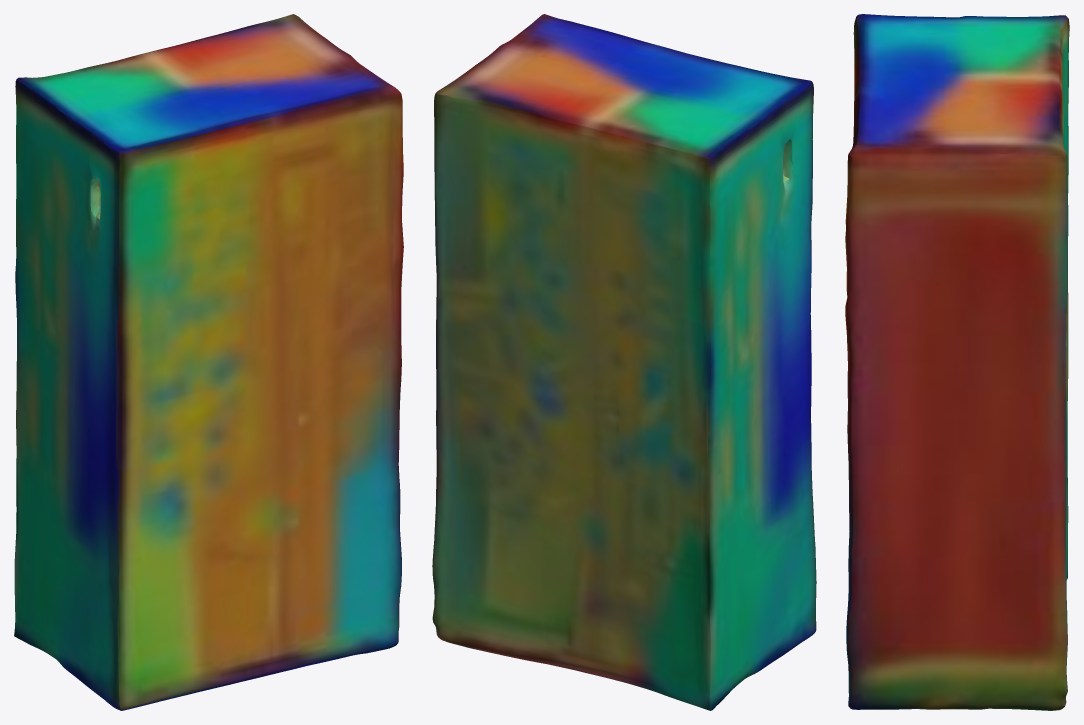
3 renders of one model, left to right at view 1: azimuth 30°, elevation 25°; view 2: azimuth 150°, elevation 25°; view 3: azimuth 270°, elevation 25°, orthographic.
Visible parts, largest first — view 1: world; view 2: world; view 3: world.
Part boxes in pixels (bbox=[...]): world: bbox=[14, 14, 403, 710]; world: bbox=[432, 14, 816, 710]; world: bbox=[845, 14, 1069, 710].
Size of the model in its own units: 0.3408 by 0.6416 by 0.2309.
1 material, 1 textured.
